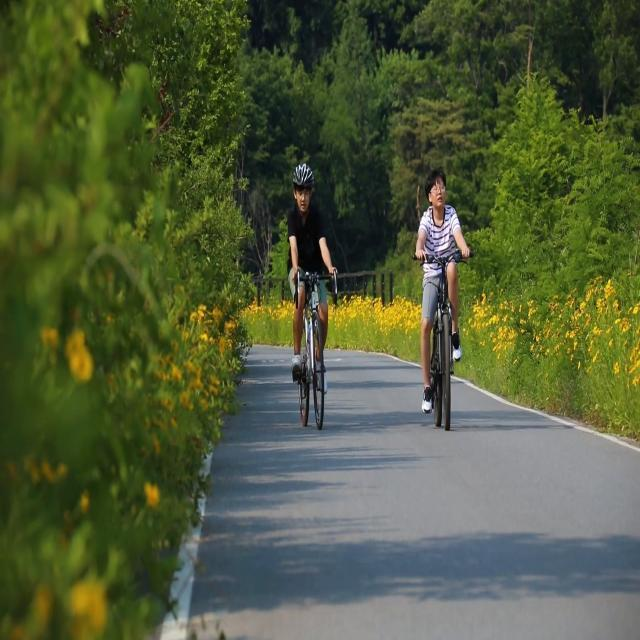Helmet: (287, 159, 318, 214)
bike: (413, 246, 472, 430), (285, 257, 335, 430)
no-helmet: (421, 164, 453, 214)
rider: (416, 164, 472, 415), (285, 158, 335, 391)
